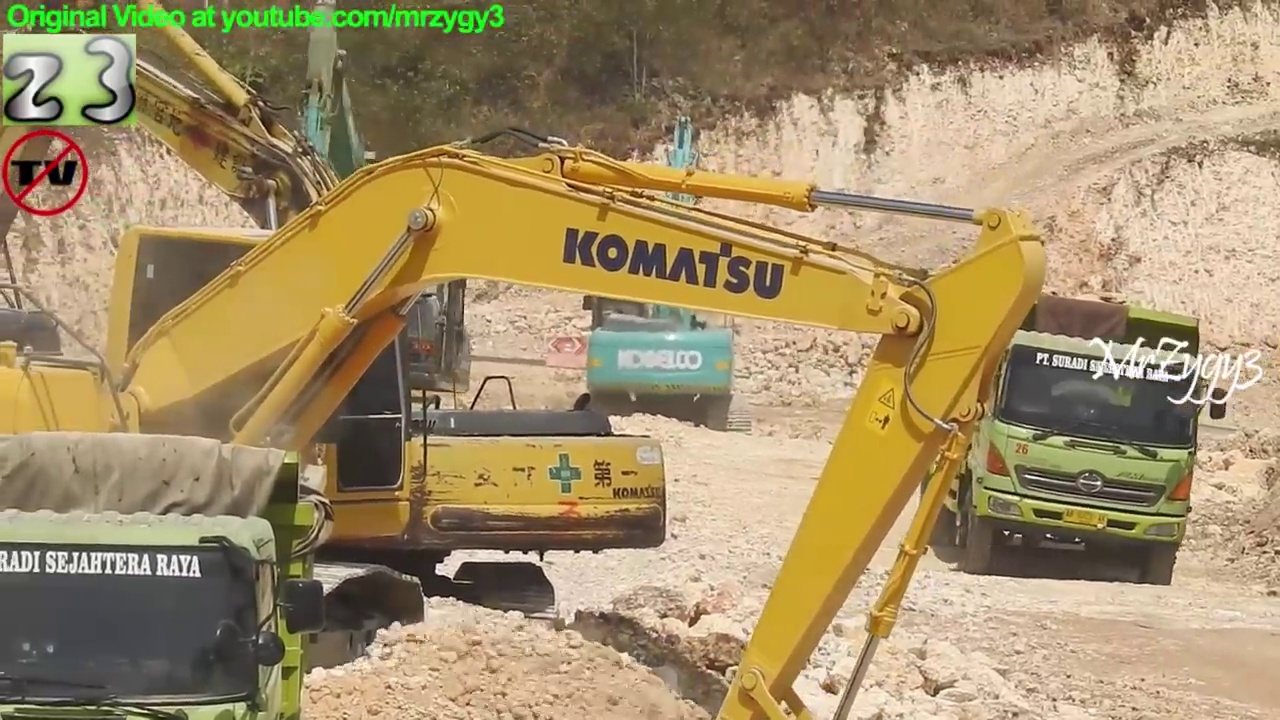excavator: (3, 124, 1052, 720), (1, 5, 672, 657), (550, 99, 765, 445)
truck: (1, 421, 338, 720), (907, 285, 1233, 593)
